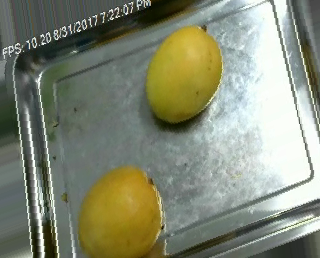Mango: (78, 161, 168, 257), (143, 25, 223, 124)
